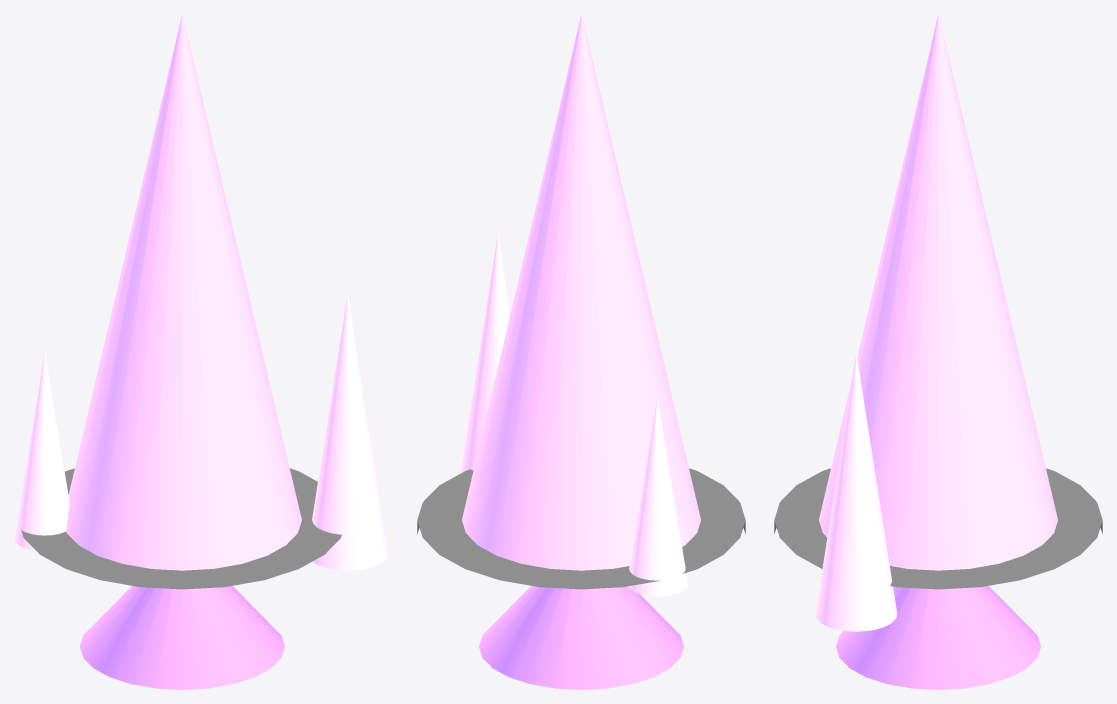
File: crystal.glb
3 renders of one model, left to right at view 1: azimuth 30°, elevation 25°; view 2: azimuth 150°, elevation 25°; view 3: azimuth 270°, elevation 25°, orthographic.
Parts seen in each view (by area): view 1: crystal_upper, crystal_lower, shard1, base, shard2; view 2: crystal_upper, crystal_lower, base, shard2, shard1; view 3: crystal_upper, crystal_lower, shard1, base.
Boxes of the visible parts, x1=… form: crystal_upper: x1=66, y1=14, x2=301, y2=570; crystal_lower: x1=79, y1=586, x2=284, y2=689; shard1: x1=312, y1=293, x2=388, y2=570; base: x1=21, y1=468, x2=341, y2=589; shard2: x1=14, y1=353, x2=69, y2=550; crystal_upper: x1=462, y1=14, x2=700, y2=570; crystal_lower: x1=479, y1=586, x2=683, y2=689; base: x1=417, y1=468, x2=745, y2=589; shard2: x1=627, y1=397, x2=687, y2=596; shard1: x1=460, y1=233, x2=510, y2=473; crystal_upper: x1=819, y1=14, x2=1057, y2=570; crystal_lower: x1=836, y1=586, x2=1040, y2=689; shard1: x1=815, y1=354, x2=897, y2=631; base: x1=774, y1=468, x2=1102, y2=589.
Bounding box in the file's own units: 0.85 × 1.7 × 0.8.
